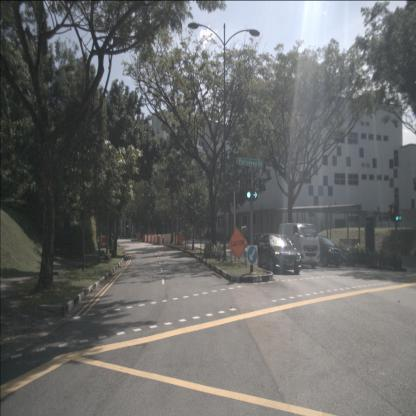movable_object-barrier: (164, 234, 175, 243), (143, 234, 151, 243), (159, 235, 162, 245), (101, 235, 104, 244), (150, 235, 153, 244), (104, 236, 107, 244), (144, 235, 147, 242), (146, 235, 149, 242), (156, 235, 158, 244), (152, 236, 154, 244), (149, 235, 151, 243), (143, 235, 145, 242)
vehicle-car: (278, 222, 321, 268), (257, 233, 302, 274), (303, 235, 343, 267), (252, 232, 270, 252)
